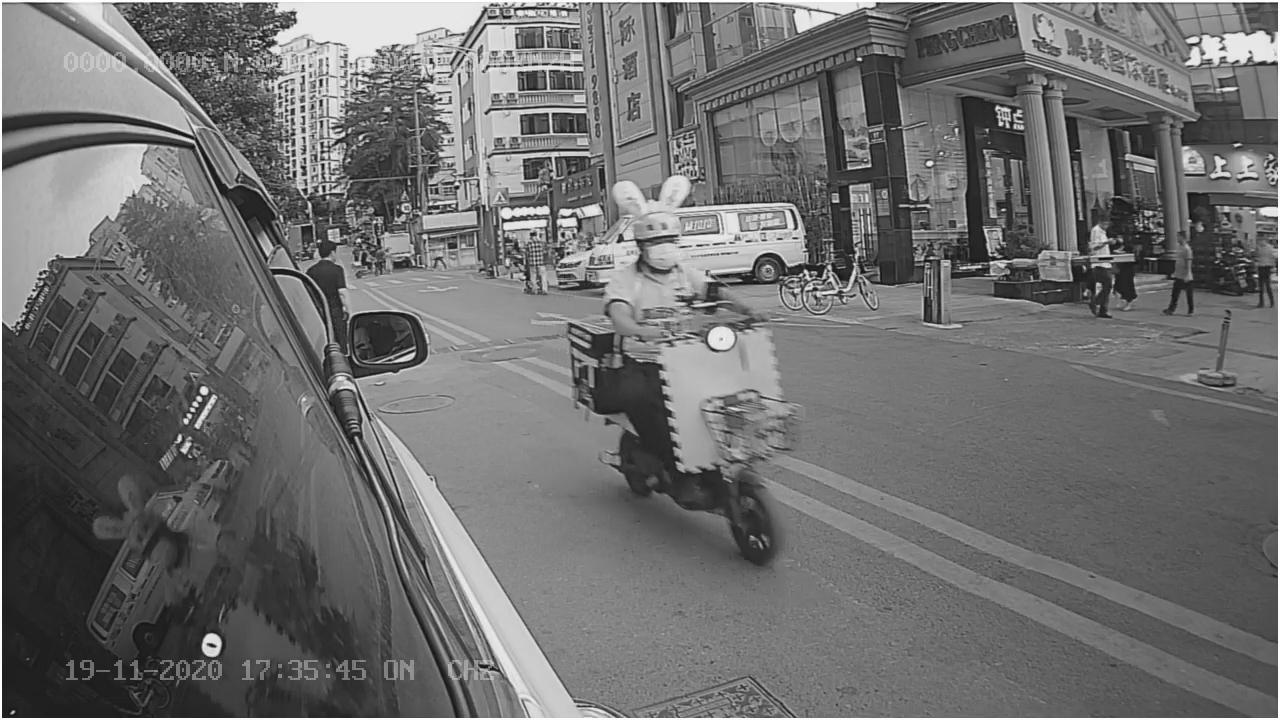person: (603, 214, 726, 318)
